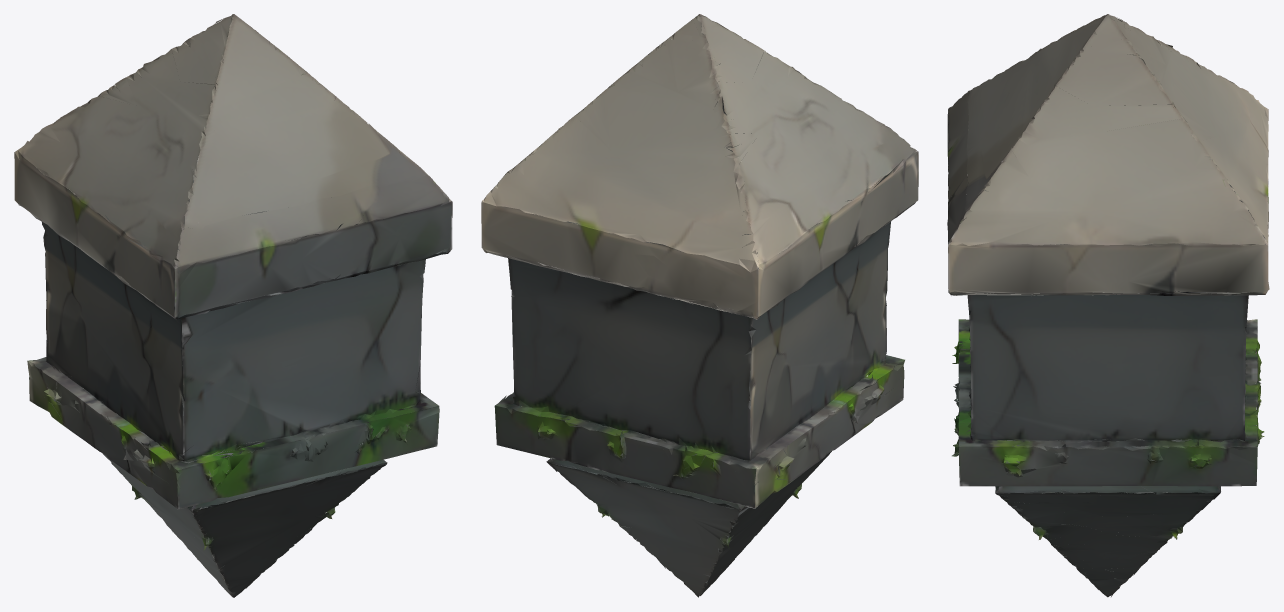
The model's file is Lab_TombChest.glb.
The picture shows the model from 3 angles, left to right: view 1: azimuth 30°, elevation 25°; view 2: azimuth 150°, elevation 25°; view 3: azimuth 270°, elevation 25°; orthographic projection.
Visible parts, largest first — view 1: Lab_TombChest; view 2: Lab_TombChest; view 3: Lab_TombChest.
Boxes of the visible parts, x1,y1,x2,y2 form: Lab_TombChest: (14,14,452,597); Lab_TombChest: (481,14,918,597); Lab_TombChest: (947,14,1269,597).
Size of the model in its own units: 0.6522 by 1.3 by 0.6515.
Materials: 1 (1 with a texture image).
